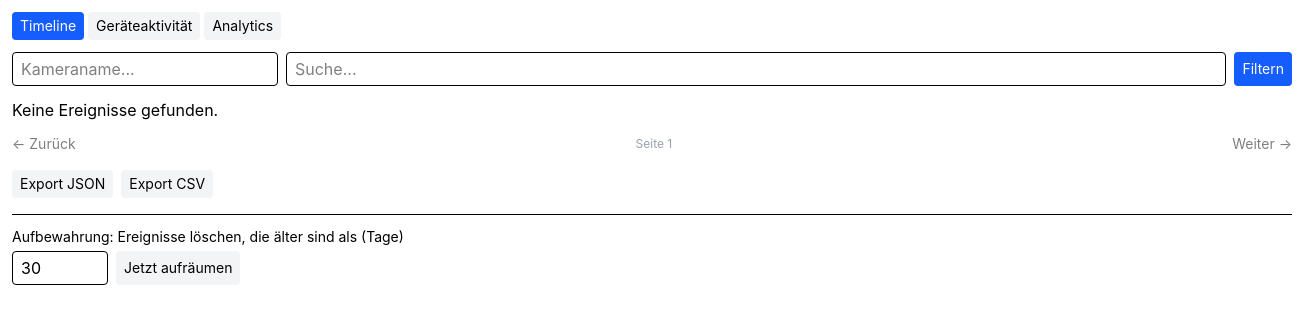
Test: EventPlatform › switches to analytics and shows events-today
What coordinates should you click on to do the following:
click the tab "Analytics"
I would click on:
 (243, 26)
Its box is [204,12,281,40].
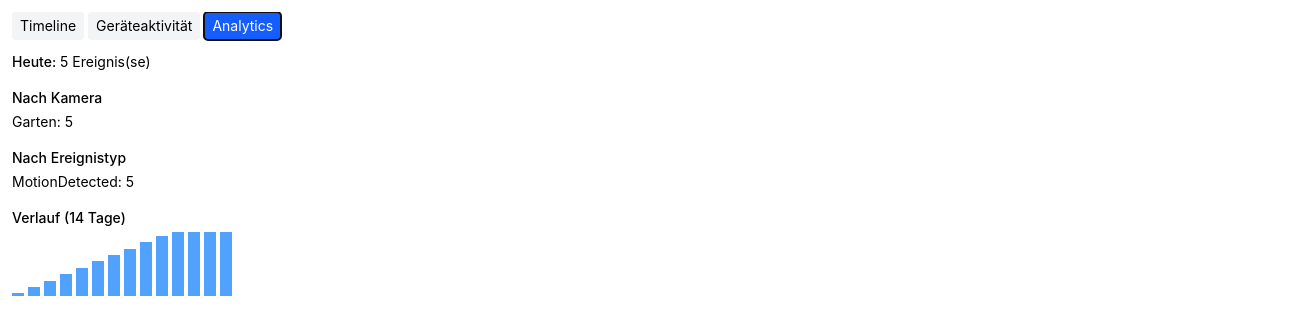
Now the text "Heute: 5 Ereignis(se)" is shown, box [12,53,151,70]
